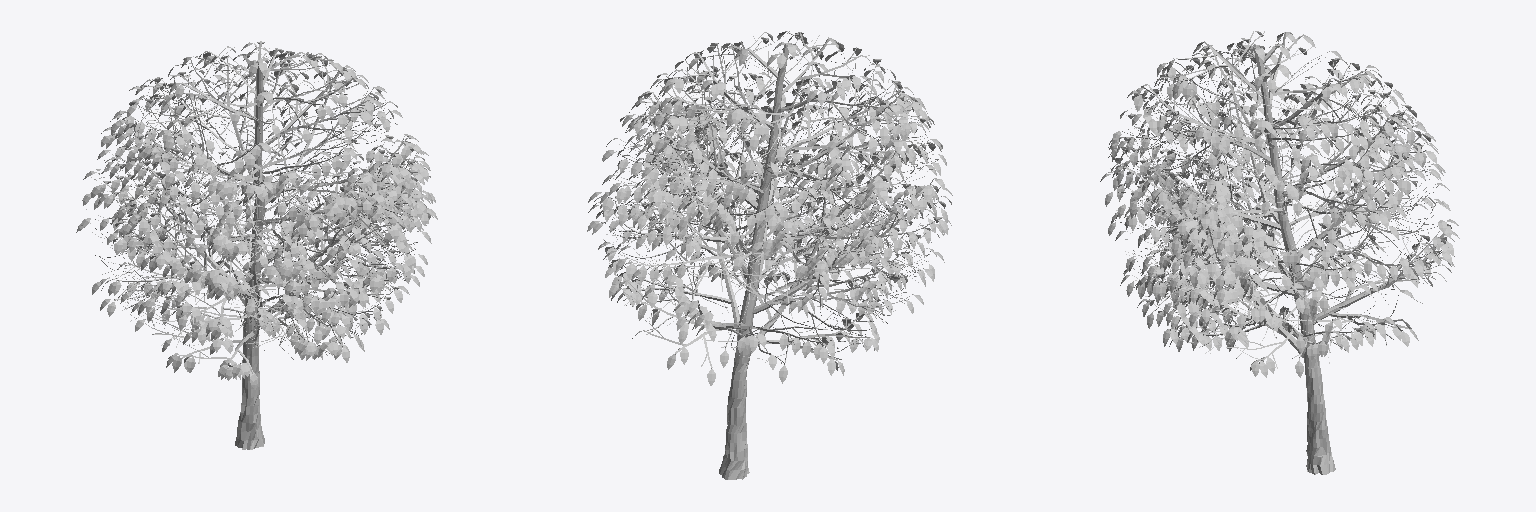
File: tree5.obj
The picture shows the model from 3 angles: view 1: azimuth 30°, elevation 25°; view 2: azimuth 150°, elevation 25°; view 3: azimuth 270°, elevation 25°; orthographic projection.
Visible parts, largest first — view 1: Material__35.001; view 2: Material__35.001; view 3: Material__35.001.
Boxes of the visible parts, x1,y1,x2,y2 form: Material__35.001: [76, 41, 437, 449]; Material__35.001: [587, 31, 952, 479]; Material__35.001: [1100, 31, 1459, 474].
Bounding box in the file's own units: 3352 × 4252 × 3364.